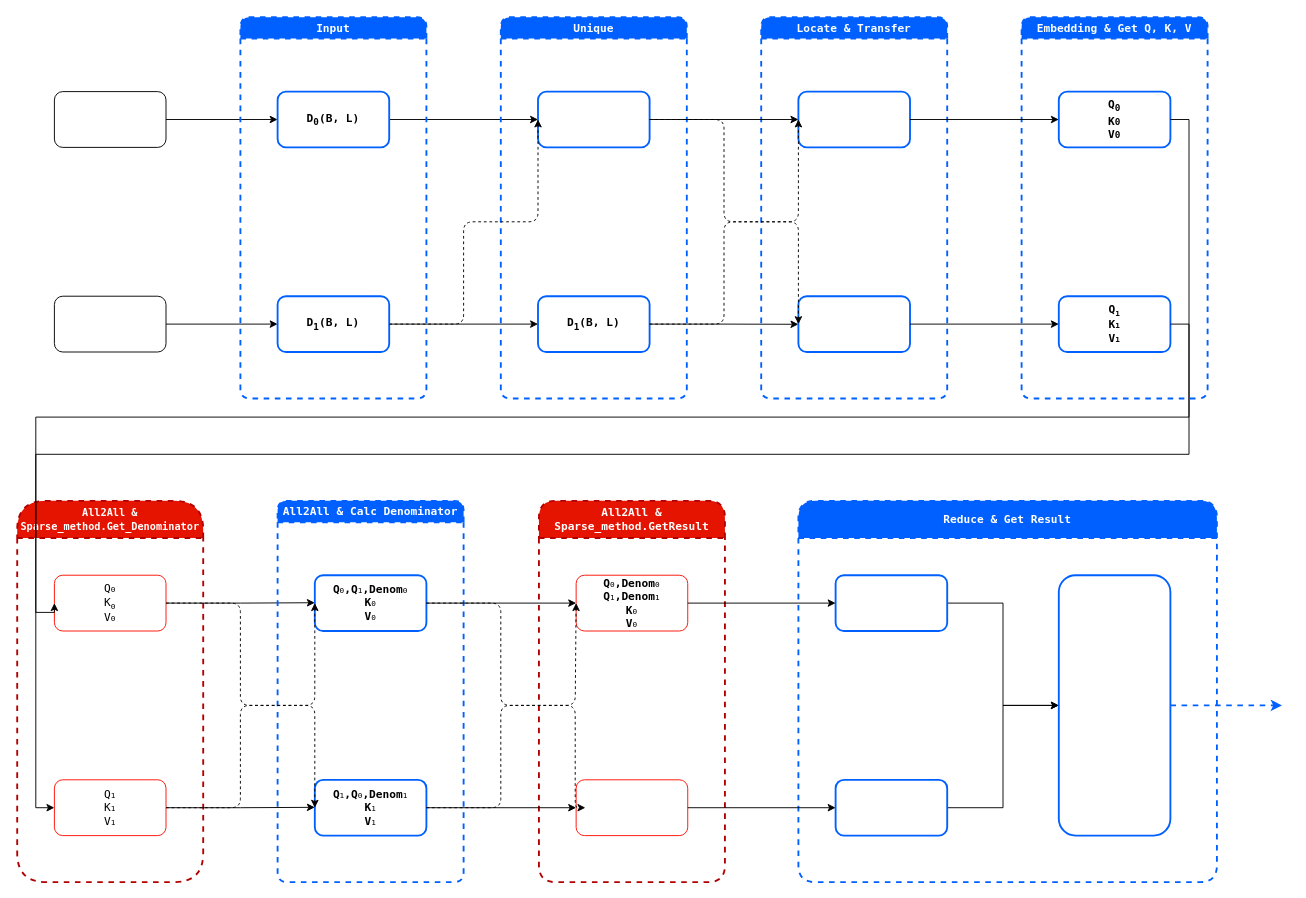
Some shapes in this 1306 by 898 pixel diagram are drawn without their labels. The shapes that lost their labels are listed below. From the top down, each one's centre as x and y in pixels, then its label:
At [109,119]: "GPU 0".
At [593,119]: "Uniqued_tokens D 0".
At [853,119]: "unique_tokens 0".
At [109,323]: "GPU 1".
At [853,323]: "unique_tokens 1".
At [891,602]: "R 0 (B, D)".
At [1114,705]: "R(B, D)".
At [631,807]: "Q 1 ,Denom 1 Q 0 ,Denom 0 K 0 V 0".
At [891,807]: "R 1 (B, D)".
